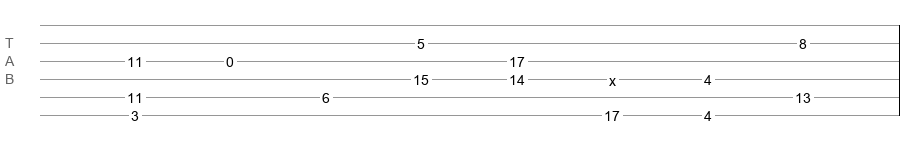0: (226, 54, 234, 64)
11: (127, 54, 143, 64), (127, 90, 143, 100)
13: (795, 90, 811, 100)
14: (509, 72, 525, 82)
15: (413, 72, 429, 82)
17: (509, 54, 525, 64), (604, 108, 620, 118)
3: (131, 108, 139, 118)
4: (704, 72, 712, 82), (704, 108, 712, 118)
5: (417, 36, 425, 46)
6: (322, 90, 330, 100)
8: (799, 36, 807, 46)
x: (609, 73, 616, 81)
